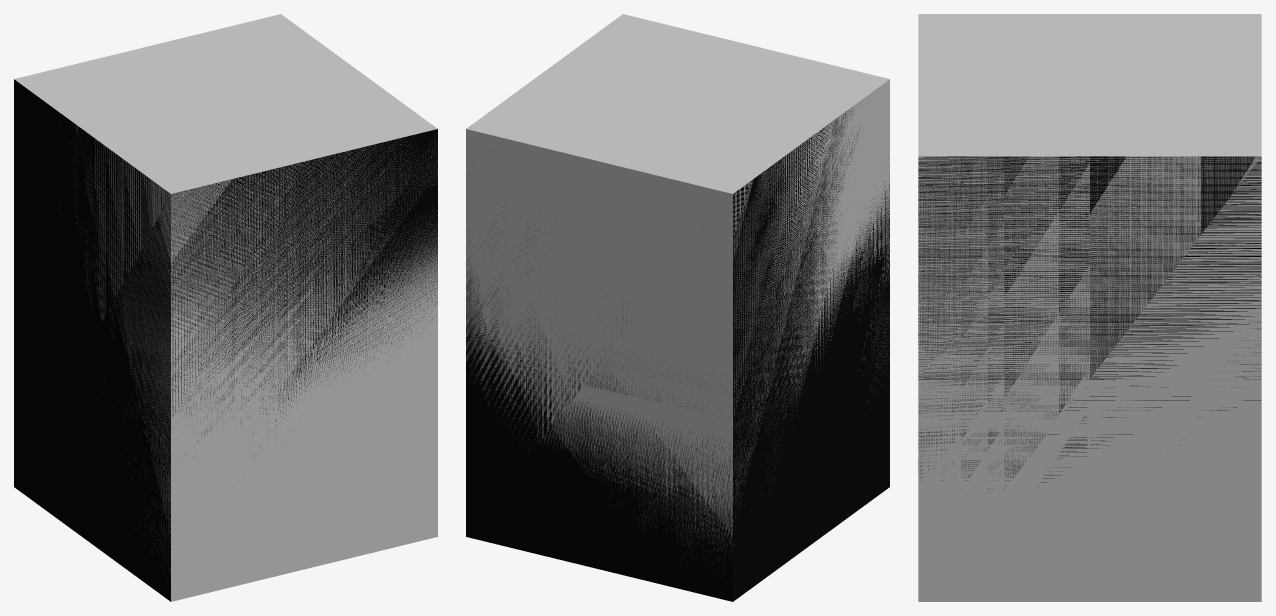
File: milk_carton.DAE
3 renders of one model, left to right at view 1: azimuth 30°, elevation 25°; view 2: azimuth 150°, elevation 25°; view 3: azimuth 270°, elevation 25°, orthographic. The views are drawn at different scales.
Visible parts, largest first — view 1: bounds, colbox-1; view 2: bounds, colbox-1; view 3: bounds, colbox-1.
Boxes of the visible parts, box(x1,y1,x2,y2) form: bounds: box(14, 14, 437, 601); colbox-1: box(14, 79, 437, 601); bounds: box(466, 14, 889, 559); colbox-1: box(466, 107, 889, 601); bounds: box(918, 14, 1261, 601); colbox-1: box(918, 156, 1261, 493).
Size of the model in its own units: 14.39 by 14.66 by 21.01.
